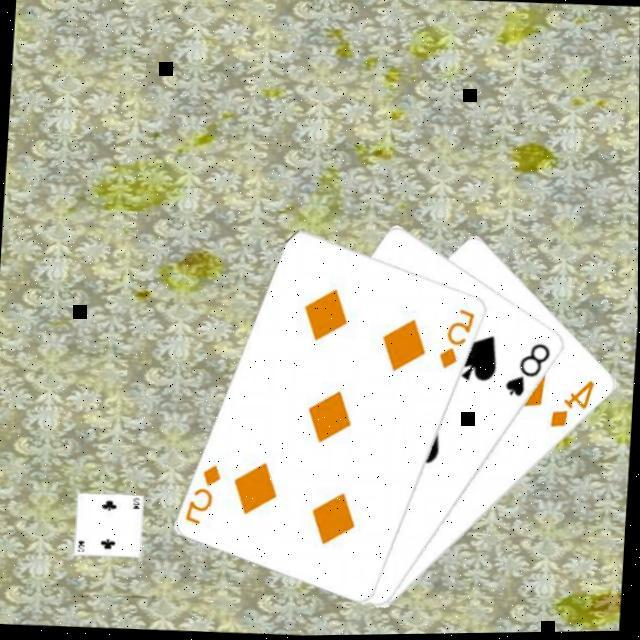4D: (546, 378, 598, 437)
5D: (436, 307, 478, 376), (182, 462, 224, 531)
8S: (501, 341, 554, 406)
